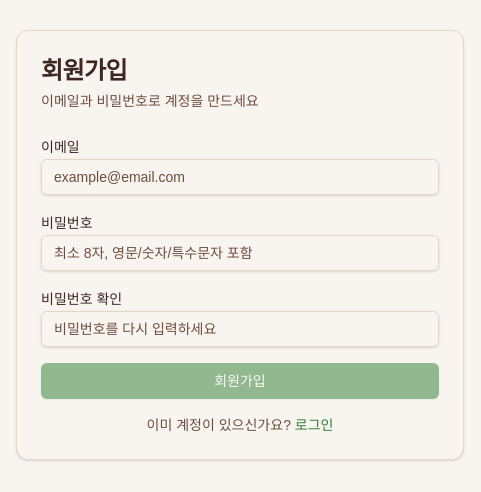
Scenario: SignUpPage › 잘못된 이메일 입력 시 에러 메시지를 표시해야 함
Type "invalid-email" into the field labelled "이메일" at [240, 177], box x1=41 y1=159 x2=439 y2=195
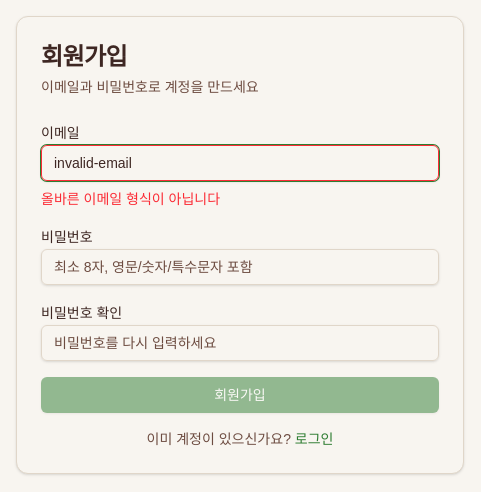
Expected: the text "올바른 이메일 형식이 아닙니다" is shown, x1=41 y1=191 x2=220 y2=207
